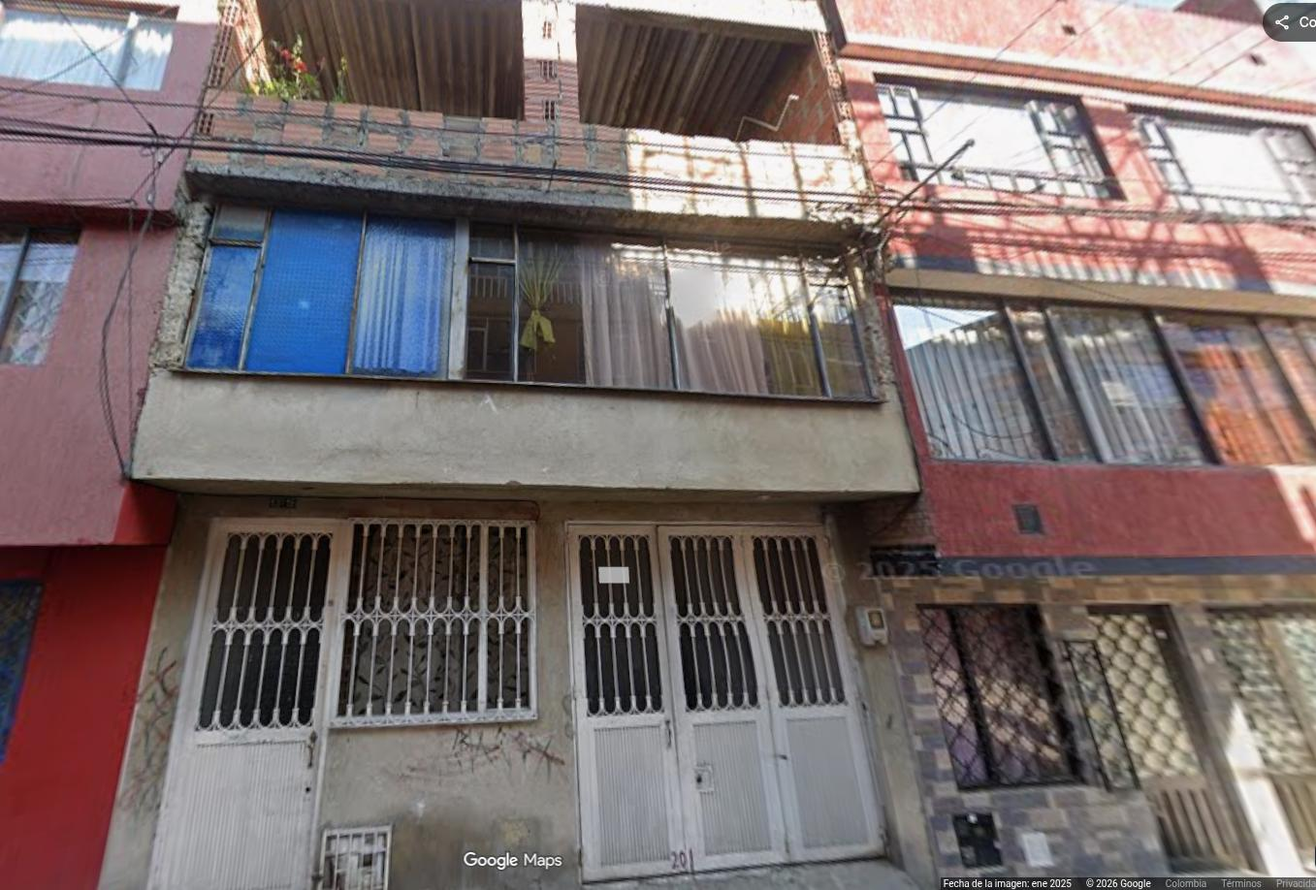casa: (100, 0, 926, 889), (824, 0, 1315, 876), (0, 0, 216, 889)
